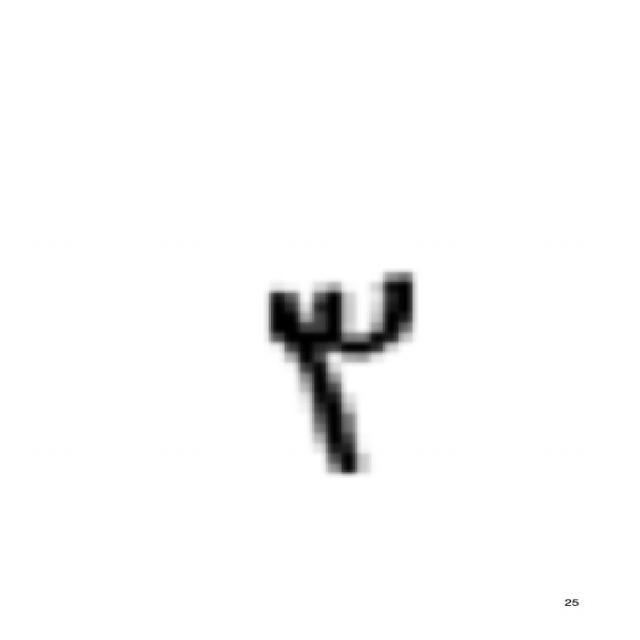3 -three-: (250, 259, 431, 488)
